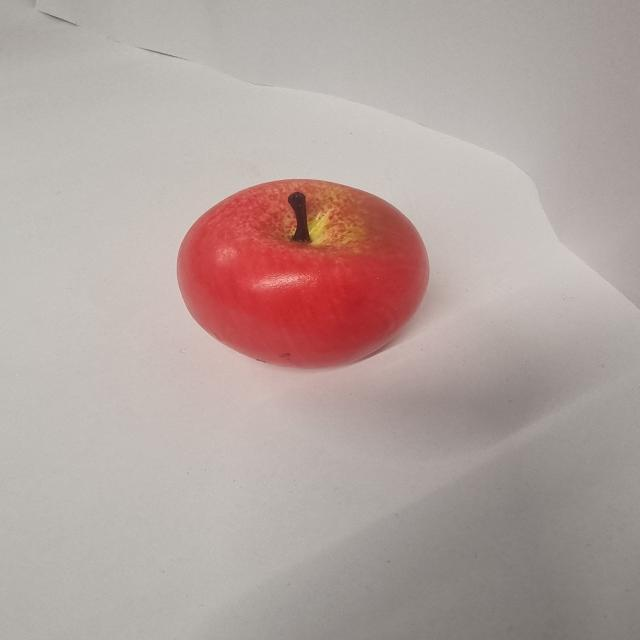apple: (178, 180, 430, 368)
